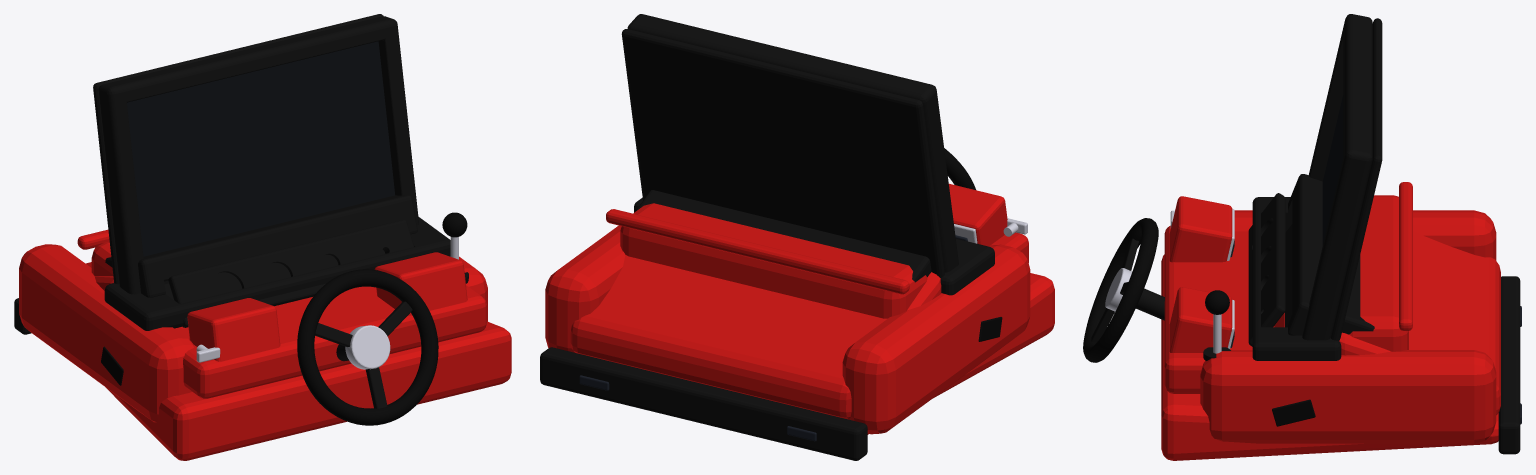
File: toy.glb
3 views of the same model, side by side, from view 1: azimuth 30°, elevation 25°; view 2: azimuth 150°, elevation 25°; view 3: azimuth 270°, elevation 25° (orthographic). The views are drawn at different scales.
Parts seen in each view (by area): view 1: Body, Screen, ScreenFrame, SteeringWheel, DashPanel, HeadlightLeft, HeadlightRight, GearLever; view 2: Body, ScreenFrame, Bumper, HeadlightLeft, SteeringWheel; view 3: Body, ScreenFrame, SteeringWheel, HeadlightLeft, Bumper, DashPanel, HeadlightRight, Screen, GearLever.
Part boxes in pixels (x1,y1,x2,y2): Body: [19, 195, 511, 460]; Screen: [127, 41, 394, 256]; ScreenFrame: [93, 14, 418, 294]; SteeringWheel: [297, 269, 438, 425]; DashPanel: [168, 220, 414, 327]; HeadlightLeft: [187, 298, 280, 361]; HeadlightRight: [374, 252, 467, 315]; GearLever: [442, 212, 467, 259]; Body: [545, 190, 1054, 434]; ScreenFrame: [621, 14, 958, 277]; Bumper: [540, 347, 867, 460]; HeadlightLeft: [949, 183, 1007, 246]; SteeringWheel: [944, 148, 975, 189]; Body: [1135, 174, 1500, 460]; ScreenFrame: [1302, 14, 1382, 340]; SteeringWheel: [1083, 218, 1158, 362]; HeadlightLeft: [1169, 196, 1234, 262]; Bumper: [1498, 276, 1521, 454]; DashPanel: [1248, 193, 1285, 346]; HeadlightRight: [1169, 287, 1234, 352]; Screen: [1322, 95, 1343, 245]; GearLever: [1205, 290, 1229, 353].
Size of the model in its own units: 0.25 by 0.2135 by 0.2818.
